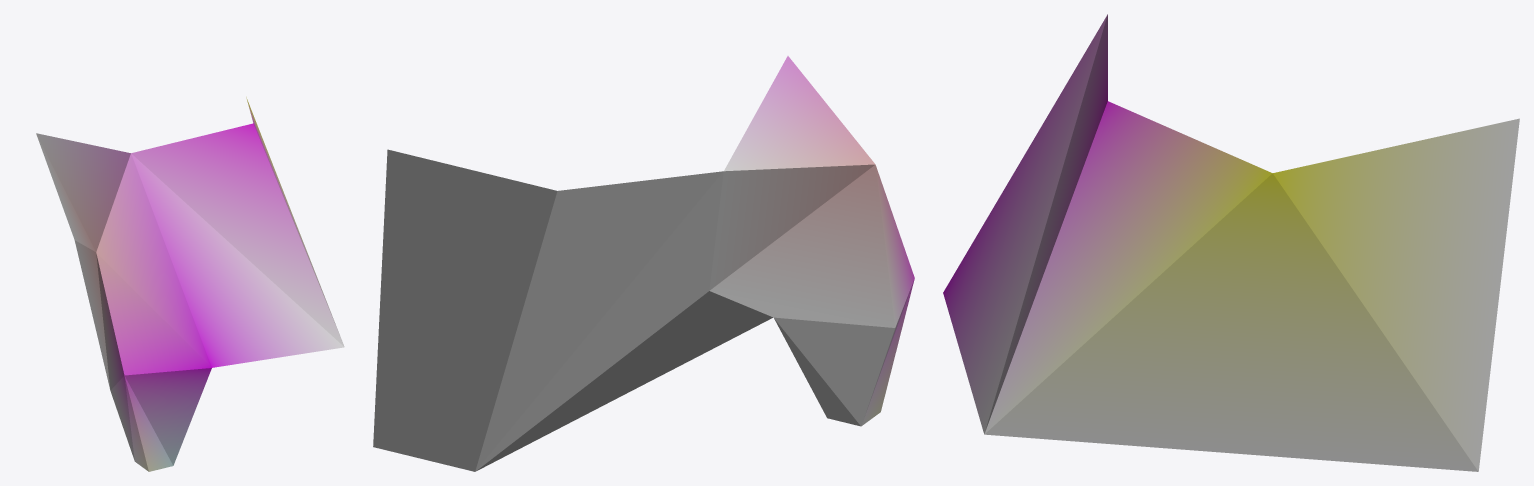
3 views of the same model, side by side, from view 1: azimuth 30°, elevation 25°; view 2: azimuth 150°, elevation 25°; view 3: azimuth 270°, elevation 25° (orthographic). The views are drawn at different scales.
Visible parts, largest first — view 1: model_1161; view 2: model_1161; view 3: model_1161.
Part boxes in pixels (bbox=[...]): model_1161: bbox=[36, 97, 344, 471]; model_1161: bbox=[373, 56, 914, 471]; model_1161: bbox=[943, 14, 1519, 471].
Size of the model in its own units: 9 by 11 by 14.
